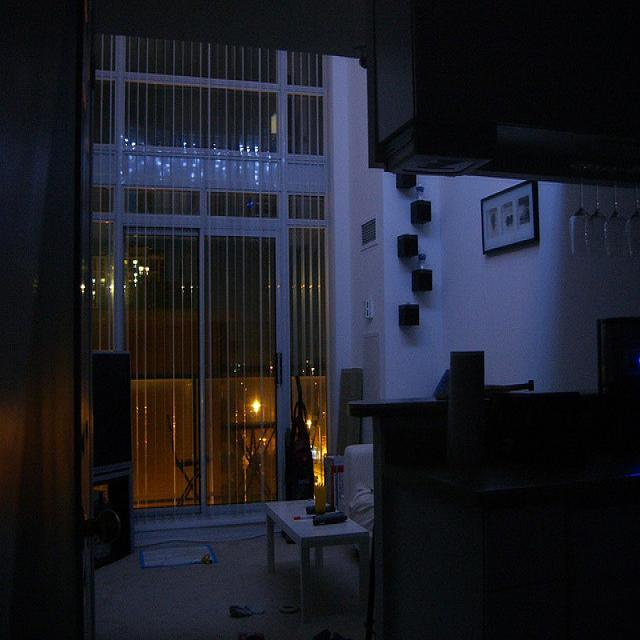Table: (340, 383, 640, 603), (266, 483, 377, 594)
